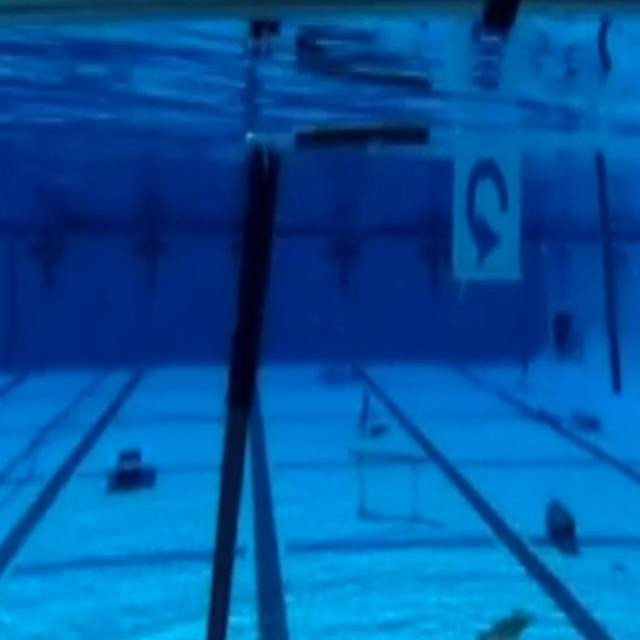Gate: (227, 105, 640, 625)
